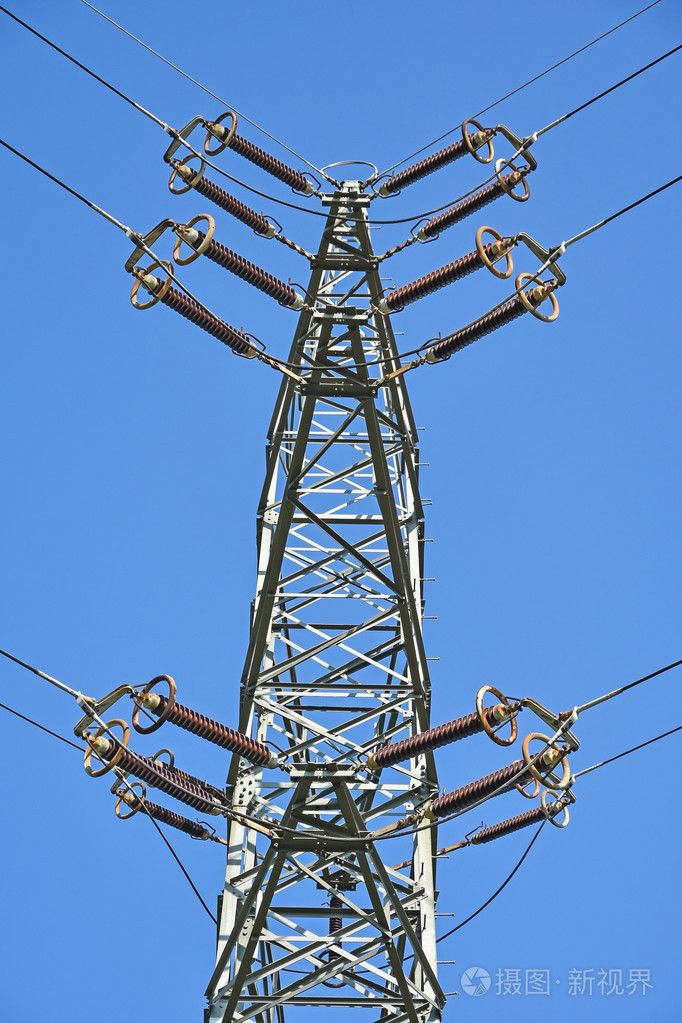insulator: (431, 747, 543, 817), (146, 276, 250, 351), (156, 700, 269, 766), (201, 234, 297, 307), (110, 746, 214, 812), (369, 706, 494, 760), (433, 293, 529, 358), (417, 174, 512, 237), (387, 249, 492, 303), (381, 137, 477, 191), (194, 173, 272, 233), (226, 130, 305, 188), (469, 798, 544, 843), (129, 797, 210, 835)
